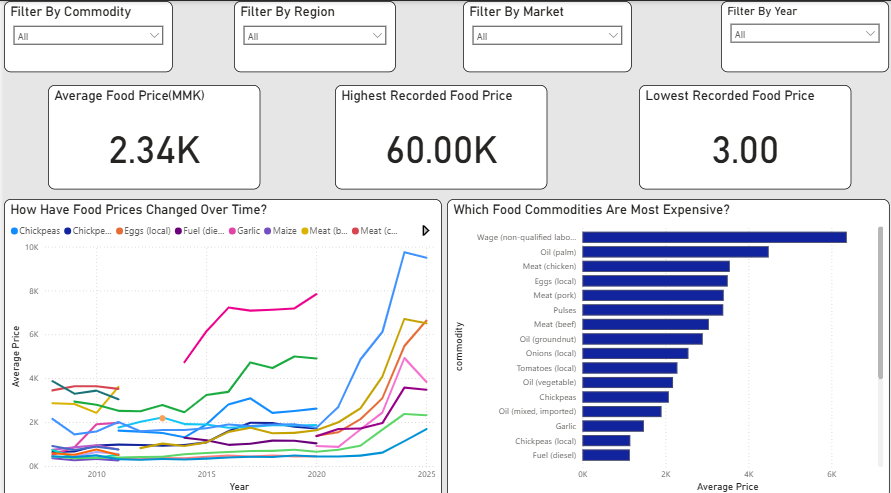

This screenshot's page, from the dashboard's own definition file:
{"tool":"powerbi","page":{"name":"Overview","canvas":[1280,720],"ordinal":0},"visuals":[{"type":"slicer","title":"Filter By Commodity","fields":{"Values":["wfp_food_prices_mmr.commodity"]},"box":[0,0,244.4,103.3],"z":0},{"type":"slicer","title":"Filter By Region","fields":{"Values":["wfp_food_prices_mmr.admin1","wfp_food_prices_mmr.admin2"]},"box":[333.1,0,234.2,103.3],"z":1000},{"type":"slicer","title":"Filter By Year","fields":{"Values":["wfp_food_prices_mmr.Year"]},"box":[1037.1,0,242.9,103.3],"z":2000},{"type":"slicer","title":"Filter By  Market","fields":{"Values":["wfp_food_prices_mmr.market"]},"box":[663.3,0,244.4,103.3],"z":3000},{"type":"card","title":"Average Food Price(MMK)","fields":{"Values":["wfp_food_prices_mmr.Average Price"]},"box":[64,120.7,306.9,151.3],"z":4000},{"type":"card","title":"Highest Recorded Food Price","fields":{"Values":["wfp_food_prices_mmr.Max Price"]},"box":[478.5,120.7,306.9,151.3],"z":5000},{"type":"card","title":"Lowest Recorded Food Price","fields":{"Values":["wfp_food_prices_mmr.Min Price"]},"box":[917.8,120.7,306.9,151.3],"z":6000},{"type":"lineChart","title":"How Have Food Prices Changed Over Time?","fields":{"Category":["wfp_food_prices_mmr.date.Variation.Date Hierarchy.Year","wfp_food_prices_mmr.date.Variation.Date Hierarchy.Quarter","wfp_food_prices_mmr.date.Variation.Date Hierarchy.Month","wfp_food_prices_mmr.date.Variation.Date Hierarchy.Day"],"Y":["wfp_food_prices_mmr.Average Price"],"Series":["wfp_food_prices_mmr.commodity"]},"box":[0,286.5,632.7,433.5],"z":7000},{"type":"clusteredBarChart","title":"Which Food Commodities Are Most Expensive?","fields":{"Category":["wfp_food_prices_mmr.commodity"],"Y":["wfp_food_prices_mmr.Average Price"]},"box":[640,286.5,640,433.5],"z":8000}]}

Visuals, with their boxes in screenshot pixels (x1, y1, x2, y2), scaled from the page's 1280x720 canvas onto the 891x493 screenshot:
"Filter By Commodity" slicer: 0:0:170:71
"Filter By Region" slicer: 232:0:395:71
"Filter By Year" slicer: 722:0:890:71
"Filter By  Market" slicer: 462:0:632:71
"Average Food Price(MMK)" card: 45:83:258:186
"Highest Recorded Food Price" card: 333:83:547:186
"Lowest Recorded Food Price" card: 639:83:853:186
"How Have Food Prices Changed Over Time?" lineChart: 0:196:440:492
"Which Food Commodities Are Most Expensive?" clusteredBarChart: 446:196:890:492
